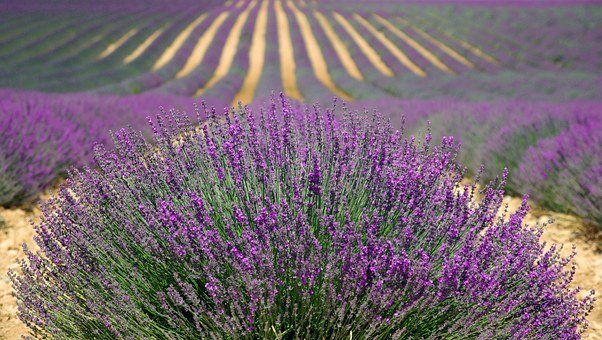flower: (24, 88, 594, 333)
